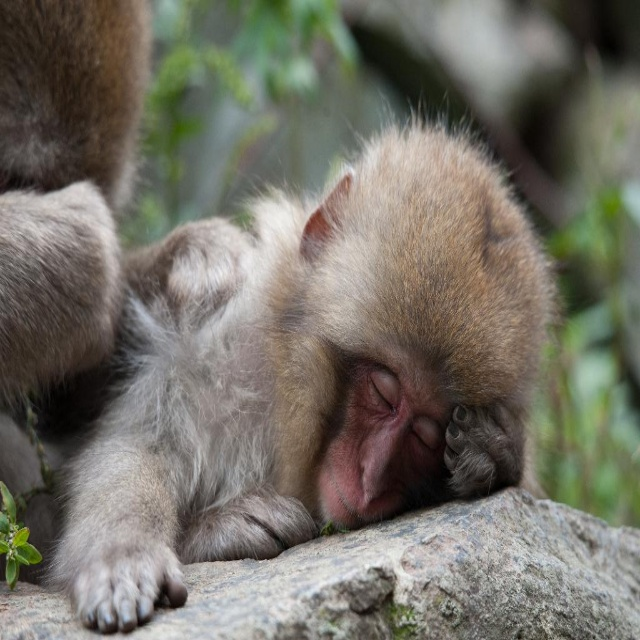Monkey: (0, 37, 538, 580)
